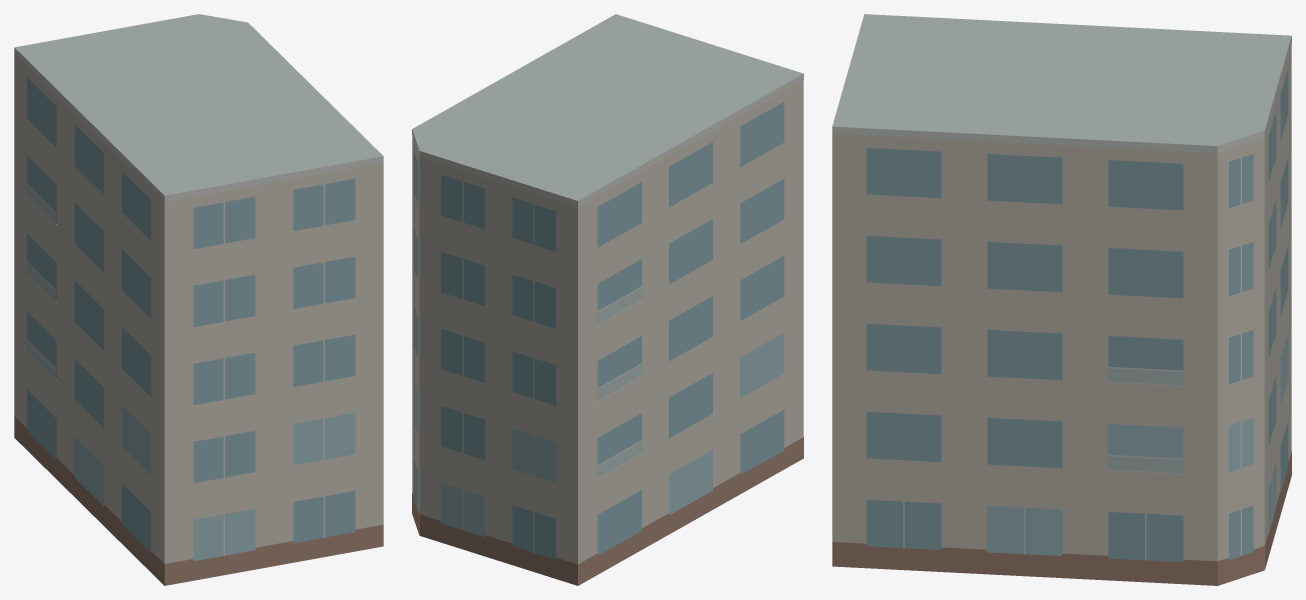
File: survey-upis-32871234.glb
3 views of the same model, side by side, from view 1: azimuth 30°, elevation 25°; view 2: azimuth 150°, elevation 25°; view 3: azimuth 270°, elevation 25° (orthographic). The views are drawn at different scales.
Visible parts, largest first — view 1: survey-upis-32871234.tmp; view 2: survey-upis-32871234.tmp; view 3: survey-upis-32871234.tmp.
Part boxes in pixels (<box>): survey-upis-32871234.tmp: <box>14,14,383,585</box>; survey-upis-32871234.tmp: <box>412,14,803,585</box>; survey-upis-32871234.tmp: <box>832,14,1291,585</box>.
Size of the model in its own units: 9.55 by 14.81 by 14.04.
